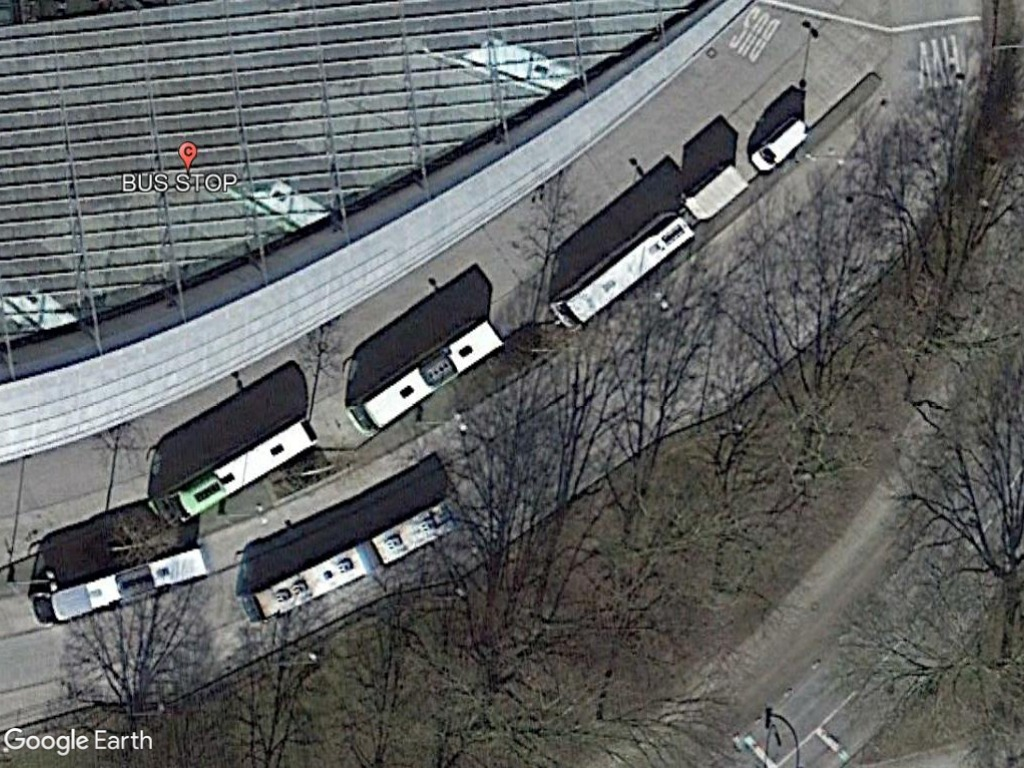bus: (340, 309, 504, 442), (149, 410, 319, 533), (542, 207, 698, 336), (30, 543, 213, 627)
van: (746, 116, 813, 176)
